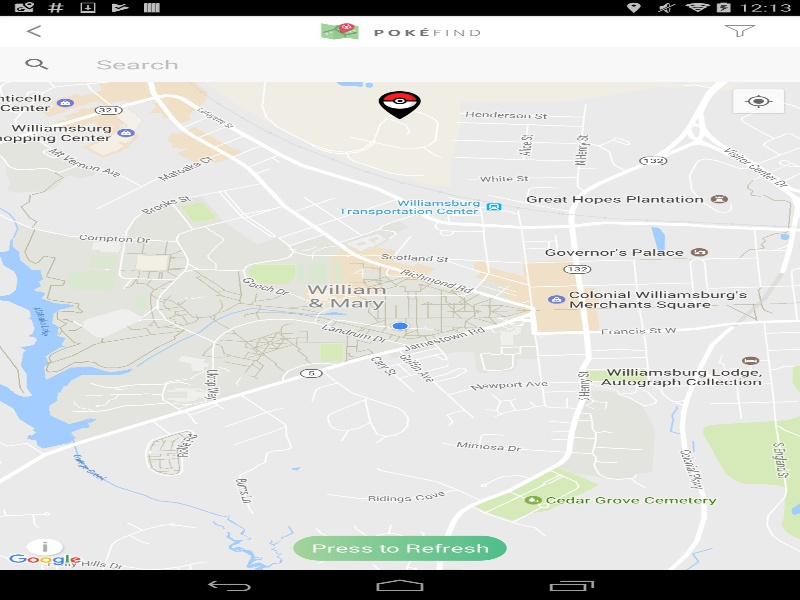Button: (293, 535, 506, 560), (0, 46, 74, 81)
Input: (74, 46, 800, 81)
